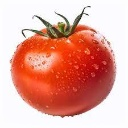tomato: (10, 24, 117, 115)
